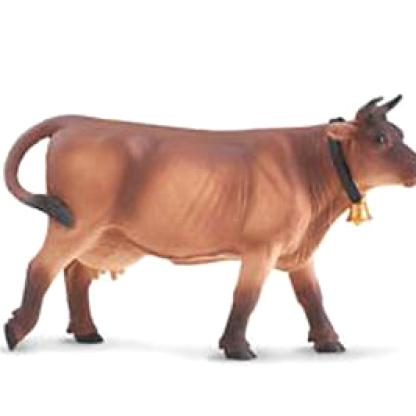cat: (1, 94, 415, 362)
